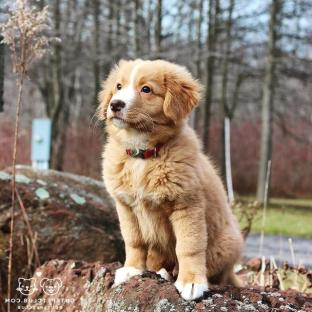Animal: (99, 59, 243, 300)
